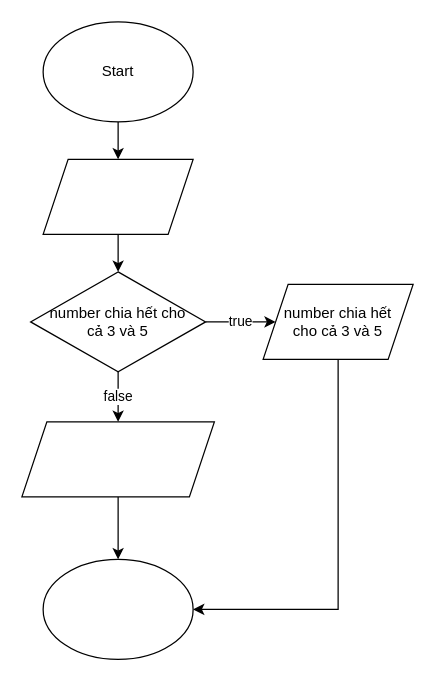
Image size: 435x681. Some labels were removed from this diagram. The shapes that lost their labels are listed below. From the top down, each one's centre as x and y in pixels, then its label:
(117,196): number
(117,459): number không chia hết cho cả 3 và 5
